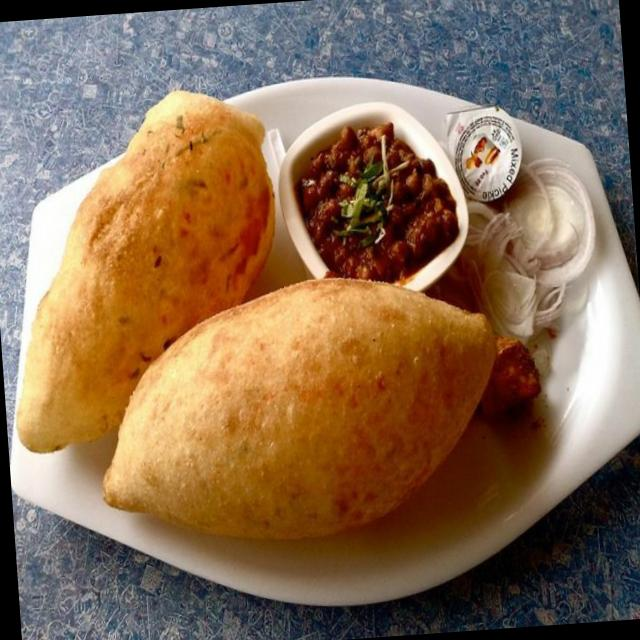Bhatura: (88, 267, 511, 551), (0, 80, 284, 478)
